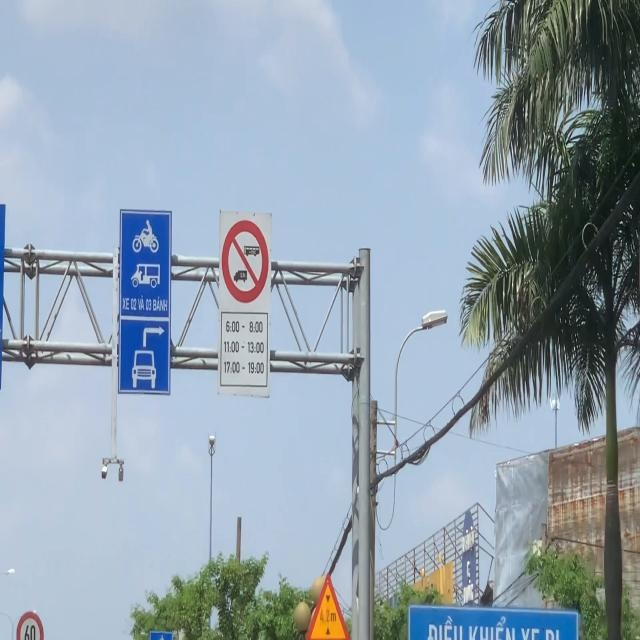bien_cam: (303, 569, 353, 640)
